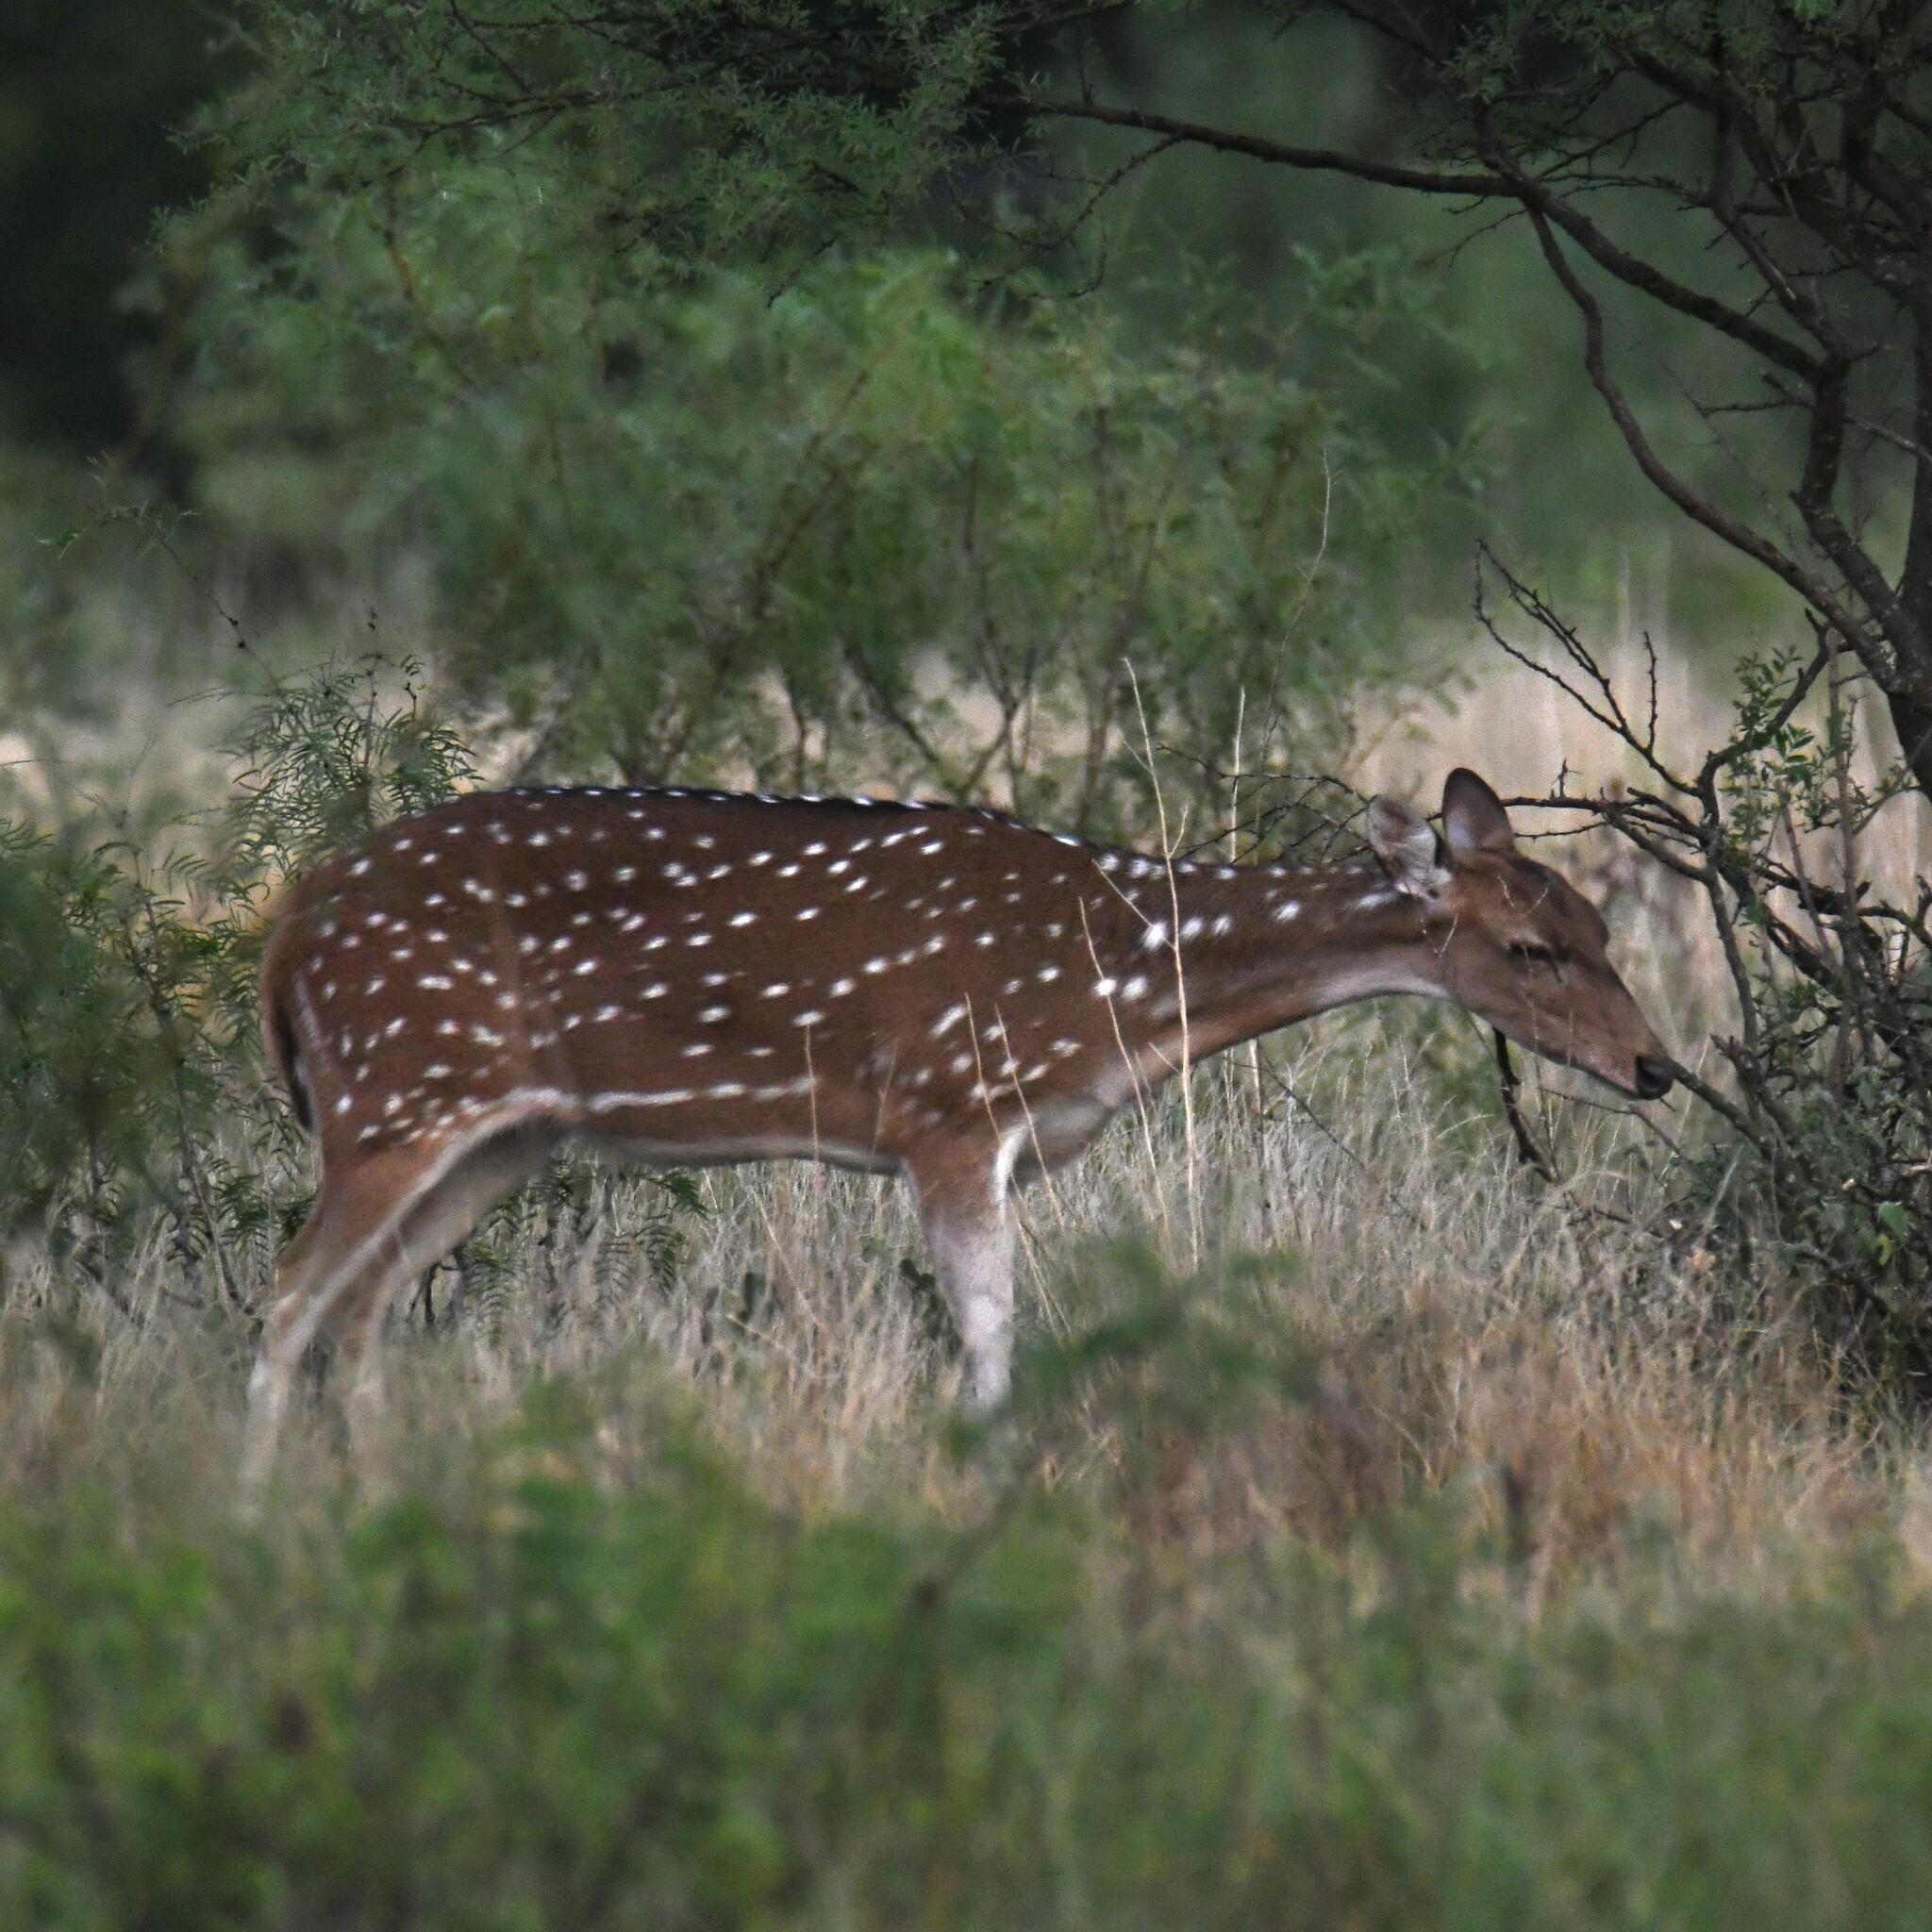Deer: (251, 770, 1674, 1442)
